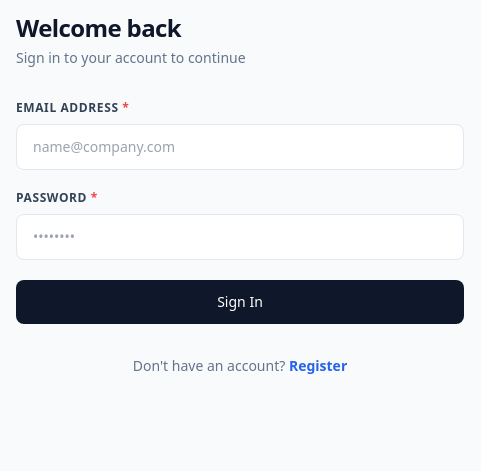
Test: LoginPage › displays 401 error message when credentials are bad
Step 1. Type "user@example.com" into the field labelled "Email address *" → (240,147), box [16,124,464,170]
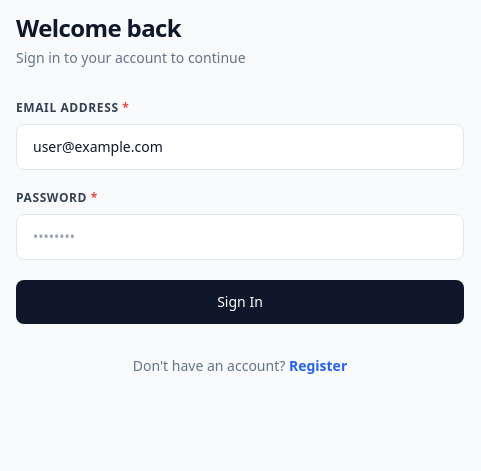
Step 2. Type "wrongpassword" into the password field labelled "Password *" → (240,237), box [16,214,464,260]
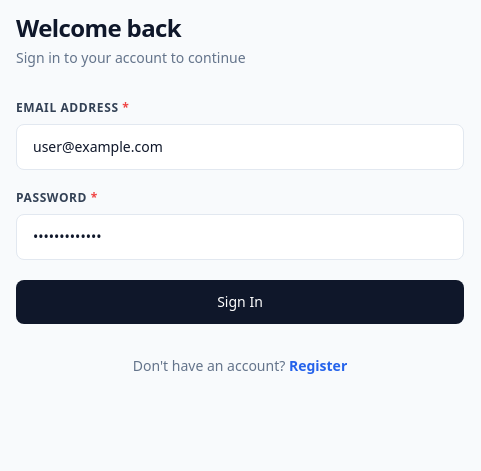
Step 3. Click the button "Sign In" → (240,302), box [16,280,464,324]
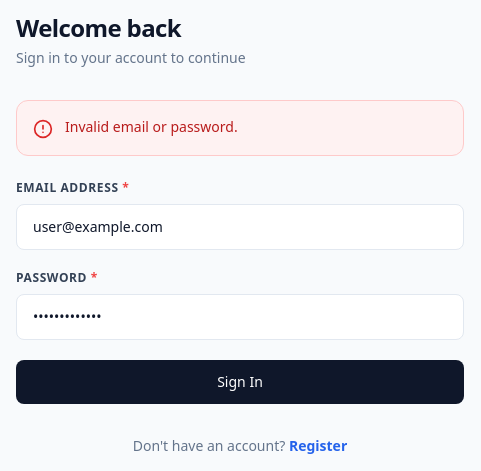
Now the text "Invalid email or password." is shown, box [65,117,238,137]
